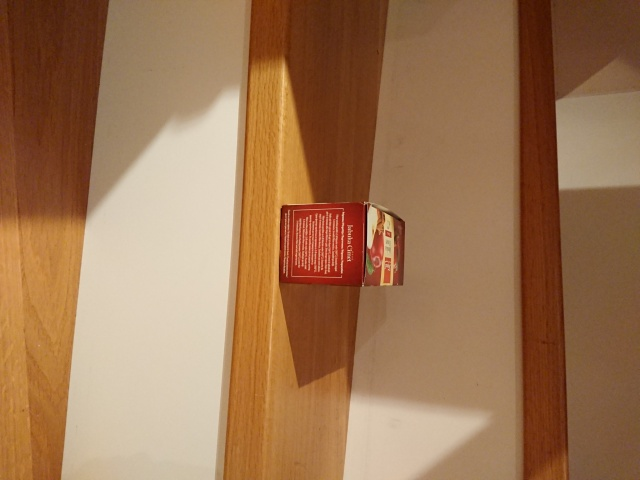Franck Apple Cinnamon Tea 60g: (276, 198, 408, 290)
